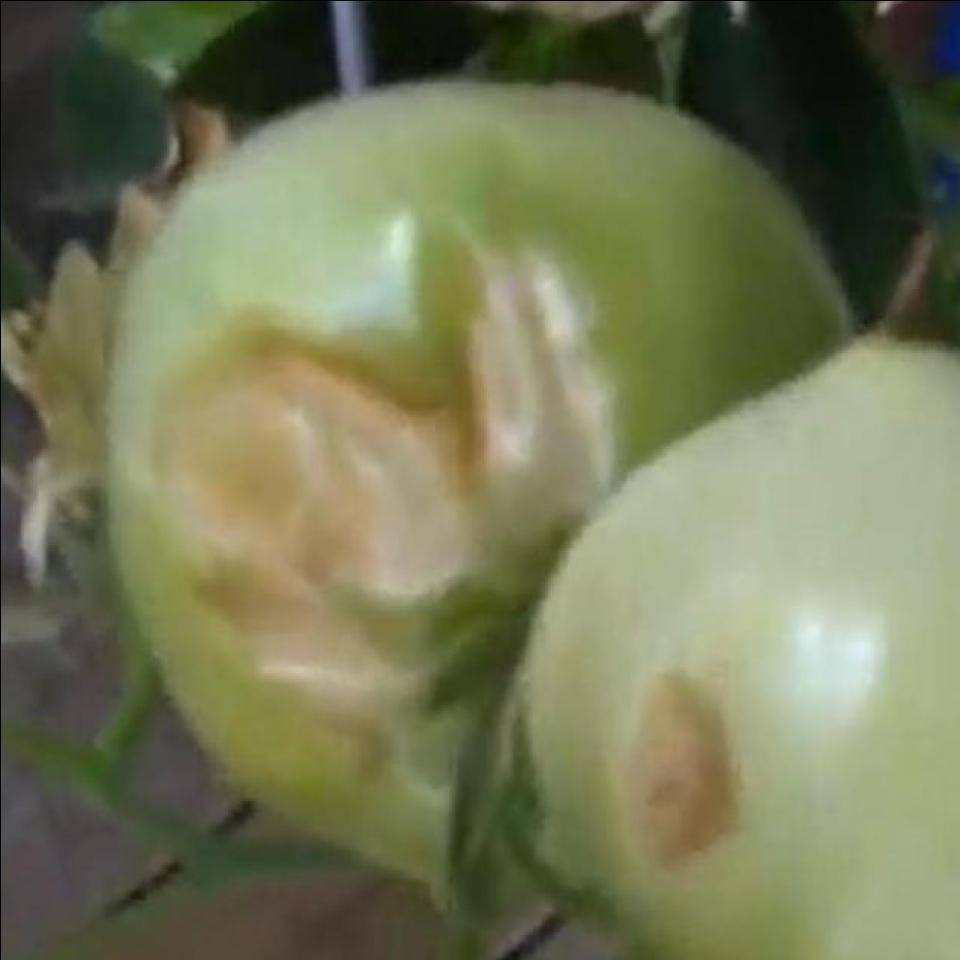Sunscald: (142, 229, 612, 825), (600, 637, 758, 893)
